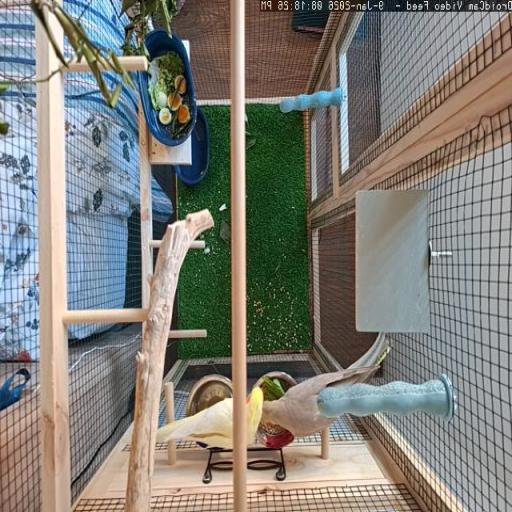bebedero: (186, 374, 232, 416)
comedero: (257, 418, 294, 449), (268, 372, 298, 407), (277, 469, 286, 479)
ninfa: (246, 332, 382, 436), (156, 389, 233, 447), (156, 390, 233, 447), (245, 377, 274, 437)
